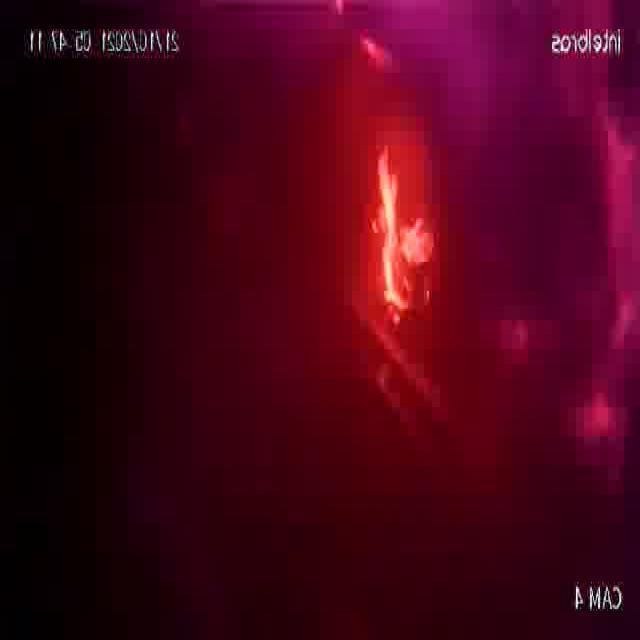Fire: (347, 128, 460, 356)
